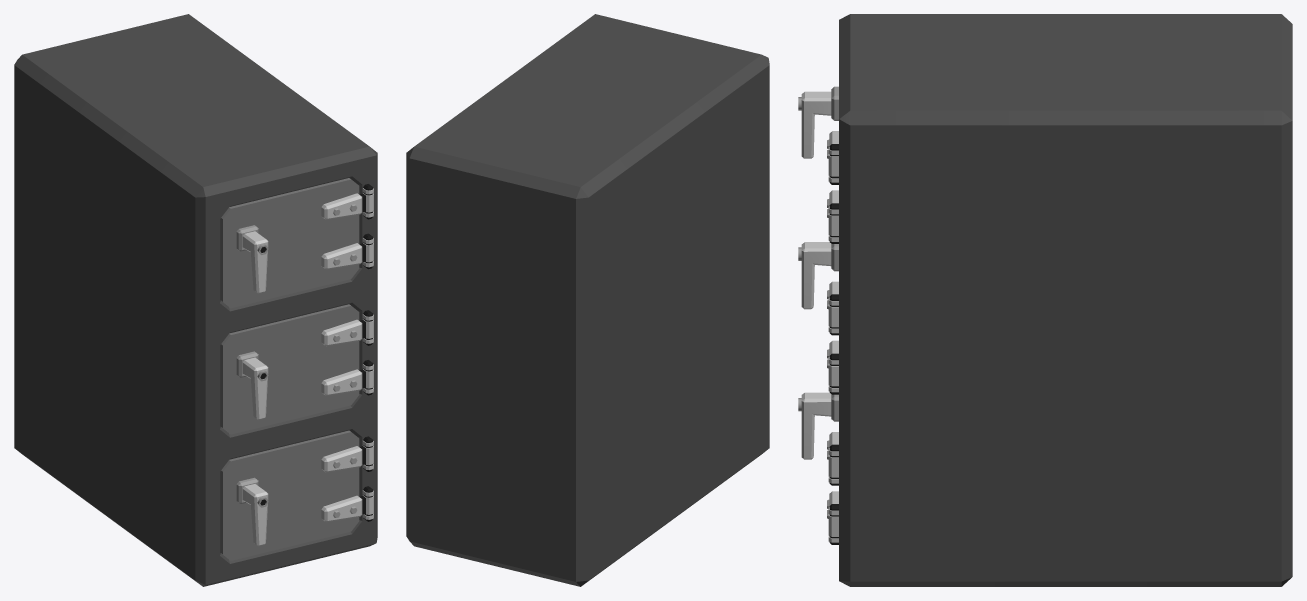
Rendered from Mortuary Freezer 01.fbx.
3 views of the same model, side by side, from view 1: azimuth 30°, elevation 25°; view 2: azimuth 150°, elevation 25°; view 3: azimuth 270°, elevation 25° (orthographic). The views are drawn at different scales.
Parts seen in each view (by area): view 1: Mortuary_Freezer_01; view 2: Mortuary_Freezer_01; view 3: Mortuary_Freezer_01.
Boxes of the visible parts, <box> form: Mortuary_Freezer_01: <box>14,14,377,586</box>; Mortuary_Freezer_01: <box>406,14,769,586</box>; Mortuary_Freezer_01: <box>798,14,1292,586</box>.
Bounding box in the file's own units: 133 × 278 × 262.
